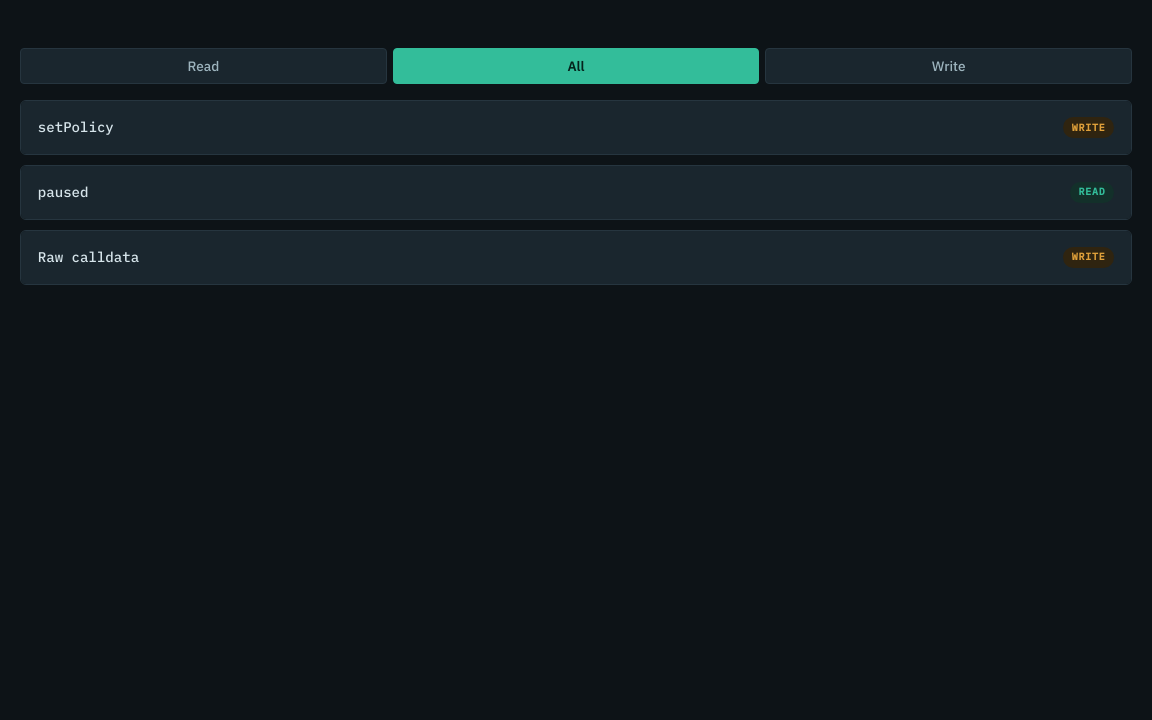
Test: Clear empties every field and the result for that function
Click the text "setPolicy": click(76, 127) [38,118,114,136]
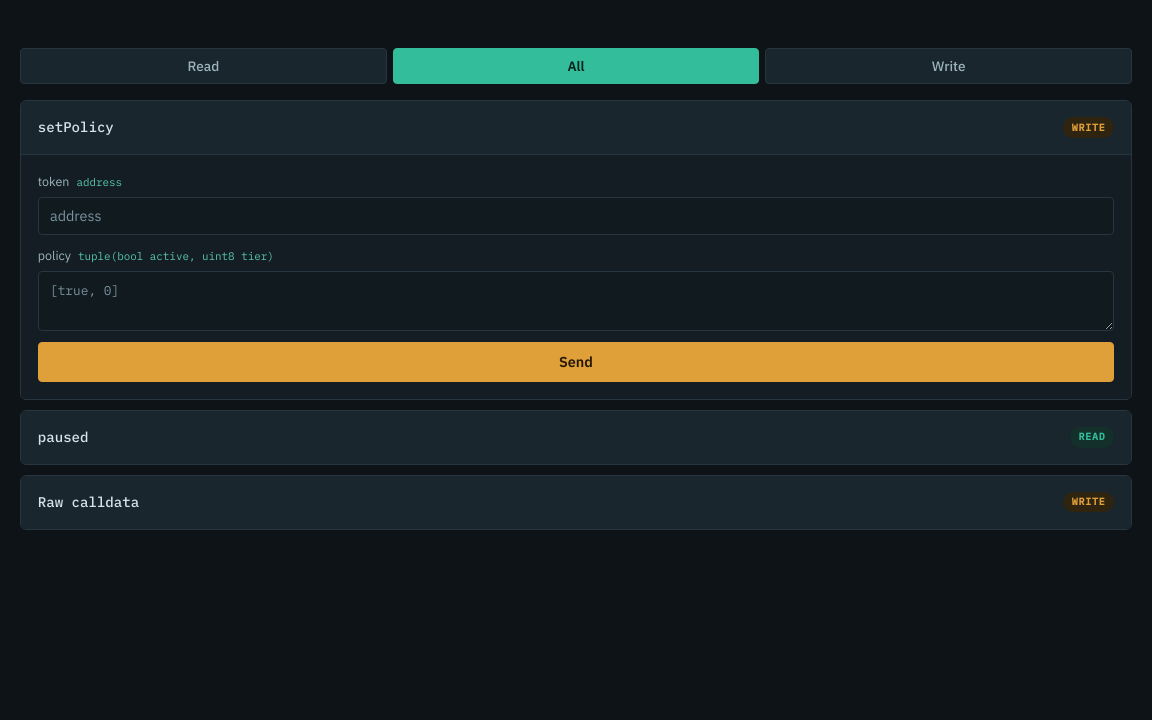
In the field labelled "token address": (576, 216) [38,197,1114,235], type "0x0000000000000000000000000000000000000001"
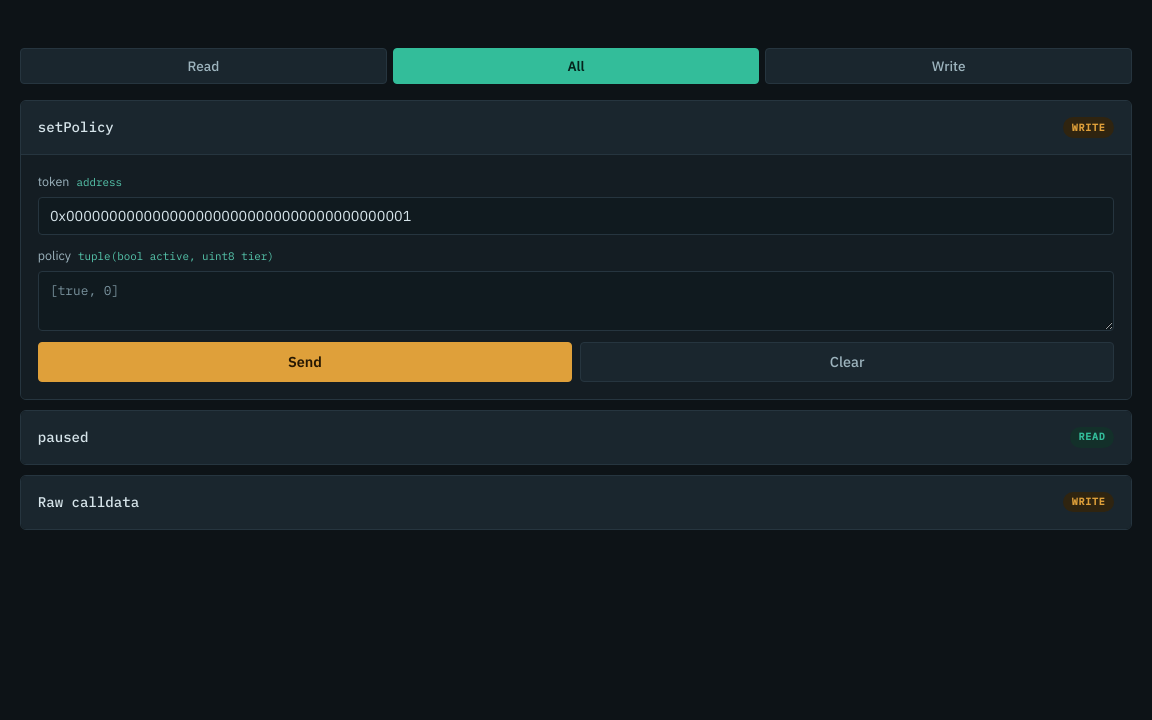
In the text box labelled "policy tuple(bool active, uint8 tier)": (576, 301) [38,271,1114,331], type "[true, 2]"
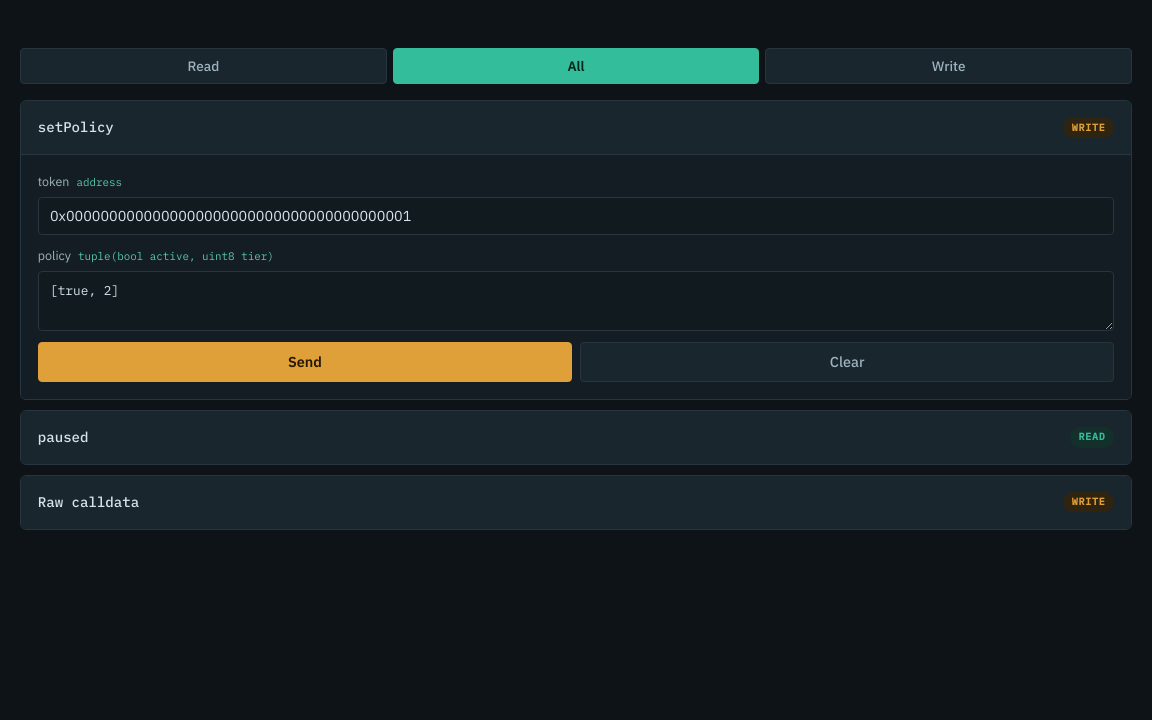
Click the button "Clear": click(847, 362) [580,342,1114,382]
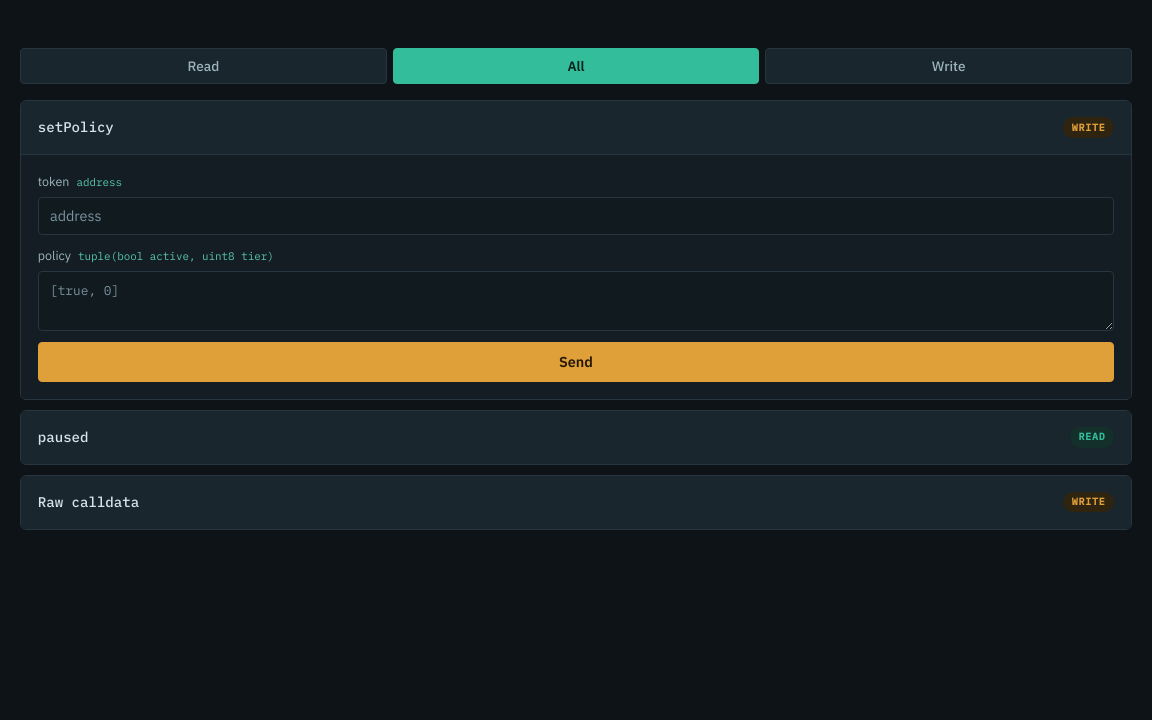
Check: the field labelled "token address" is empty, box [38,197,1114,235]
Check: the text box labelled "policy tuple(bool active, uint8 tier)" is empty, box [38,271,1114,331]
